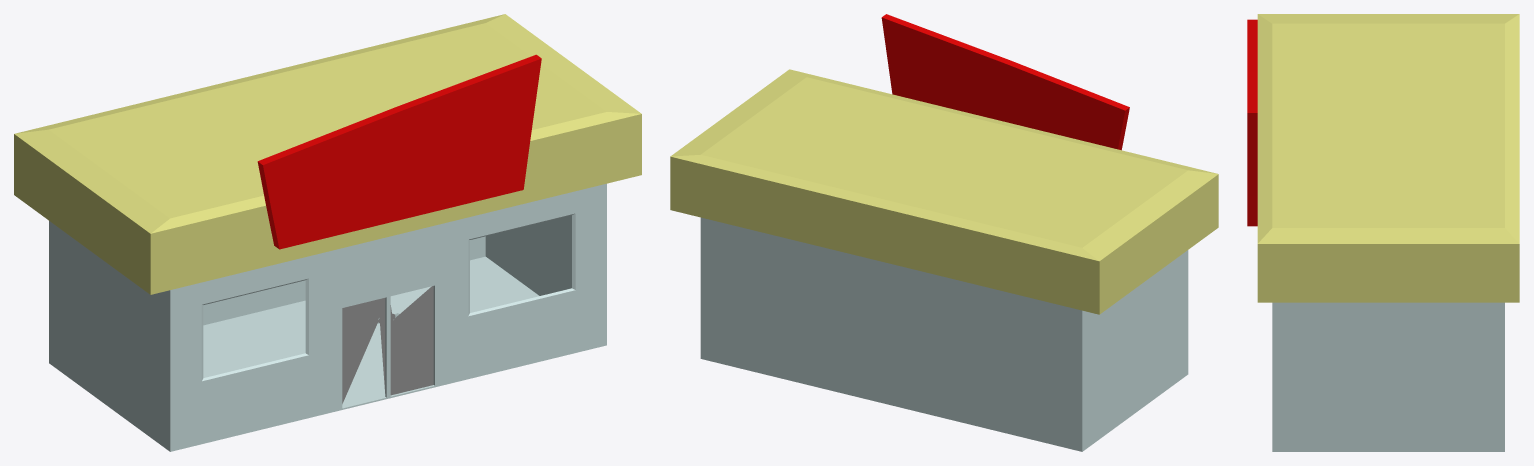
The model's file is diner.fbx.
3 renders of one model, left to right at view 1: azimuth 30°, elevation 25°; view 2: azimuth 150°, elevation 25°; view 3: azimuth 270°, elevation 25°, orthographic. The views are drawn at different scales.
Visible parts, largest first — view 1: pCube4; view 2: pCube4; view 3: pCube4.
Boxes of the visible parts, x1,y1,x2,y2 form: pCube4: (14,14,641,451); pCube4: (670,14,1218,451); pCube4: (1247,14,1519,451).
Size of the model in its own units: 14.87 by 9.13 by 7.44.
